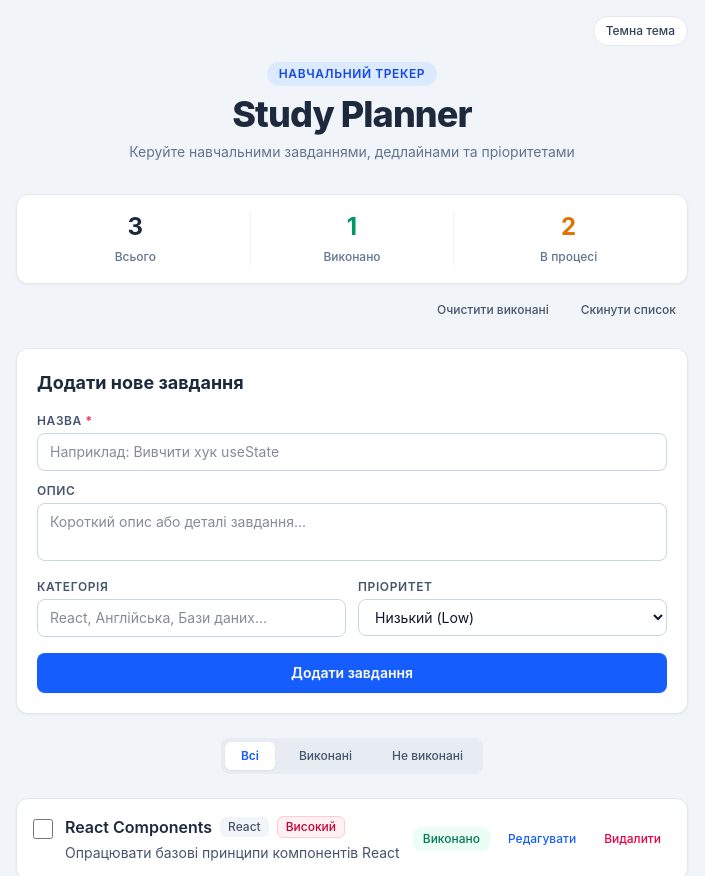
Scenario: Study Planner (App) › коректно перемикає фільтри завдань
Click the button "Виконані": click(326, 756) left=283, top=742, right=368, bottom=770
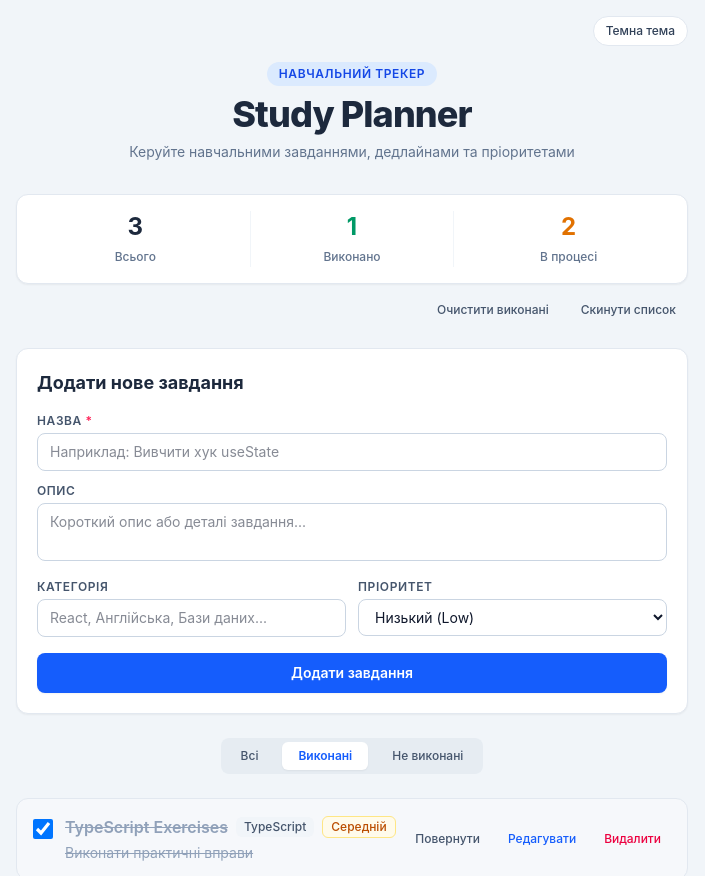
Expected: the heading "TypeScript Exercises" is shown, left=65, top=815, right=228, bottom=839
Expected: the heading "React Components" is gone
